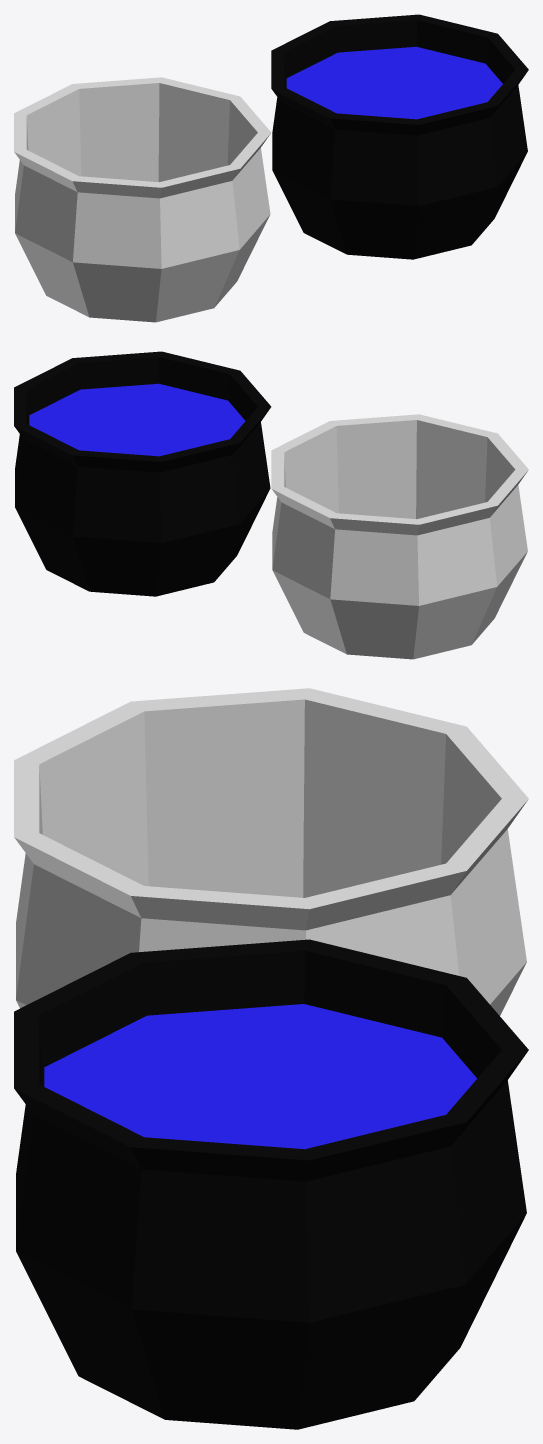
Rendered from Cauldron (Blend).fbx.
3 views of the same model, one above another, from view 1: azimuth 30°, elevation 25°; view 2: azimuth 150°, elevation 25°; view 3: azimuth 270°, elevation 25° (orthographic). The views are drawn at different scales.
Parts seen in each view (by area): view 1: Cauldron, Cauldron Hollow; view 2: Cauldron Hollow, Cauldron; view 3: Cauldron, Cauldron Hollow.
Boxes of the visible parts, left/top/right/bottom form: Cauldron: left=271, top=14, right=528, bottom=259; Cauldron Hollow: left=14, top=77, right=271, bottom=322; Cauldron Hollow: left=271, top=414, right=528, bottom=659; Cauldron: left=14, top=351, right=271, bottom=596; Cauldron: left=14, top=939, right=528, bottom=1429; Cauldron Hollow: left=14, top=688, right=528, bottom=1015.
Bounding box in the file's own units: 2006 × 925 × 670.
